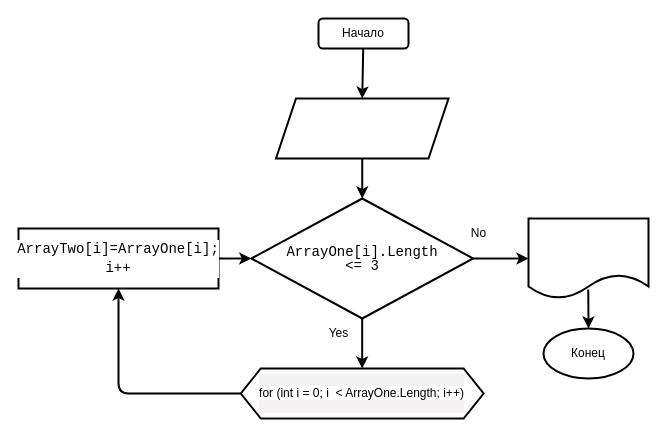
Some shapes in this 666 by 436 pixel diagram are drawn without their labels. The box of each missing label's shape, as (x1, y1, x2, y2) in pixels:
PrintArray (ArrayTwo): (527, 217, 649, 299)
string [] ArreyOne string ArreyTwo: (274, 97, 449, 159)
